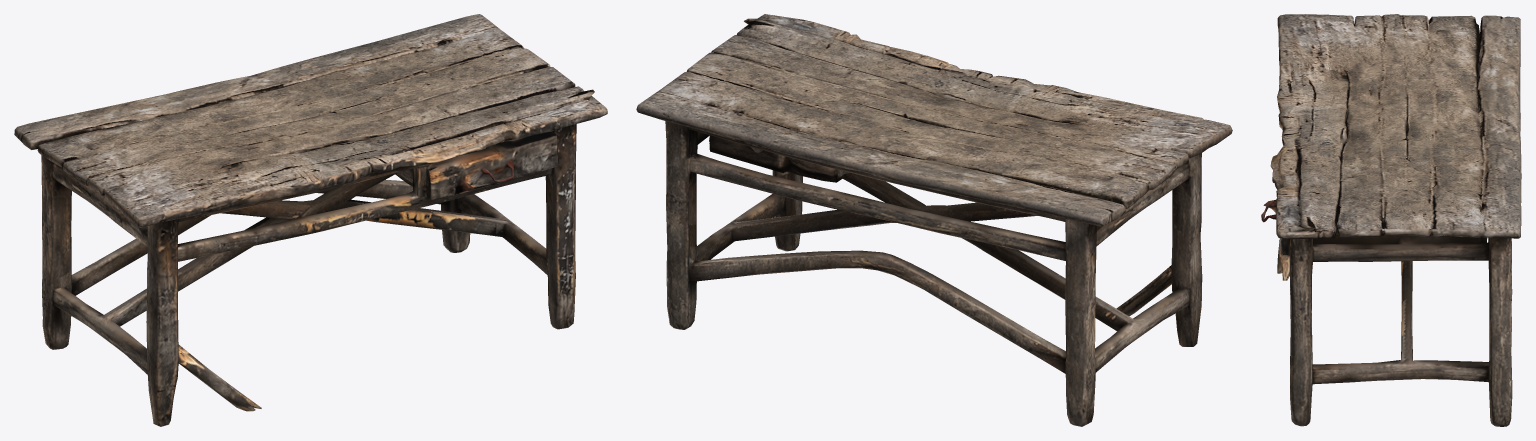
The model's file is damaged_crafting_table.fbx.
3 renders of one model, left to right at view 1: azimuth 30°, elevation 25°; view 2: azimuth 150°, elevation 25°; view 3: azimuth 270°, elevation 25°, orthographic. The views are drawn at different scales.
Parts seen in each view (by area): view 1: mesh_node; view 2: mesh_node; view 3: mesh_node.
Part boxes in pixels (x1=…): mesh_node: x1=14, y1=14, x2=607, y2=426; mesh_node: x1=636, y1=14, x2=1232, y2=426; mesh_node: x1=1261, y1=14, x2=1521, y2=426.
Bounding box in the file's own units: 1.98 × 0.8989 × 0.9975.
